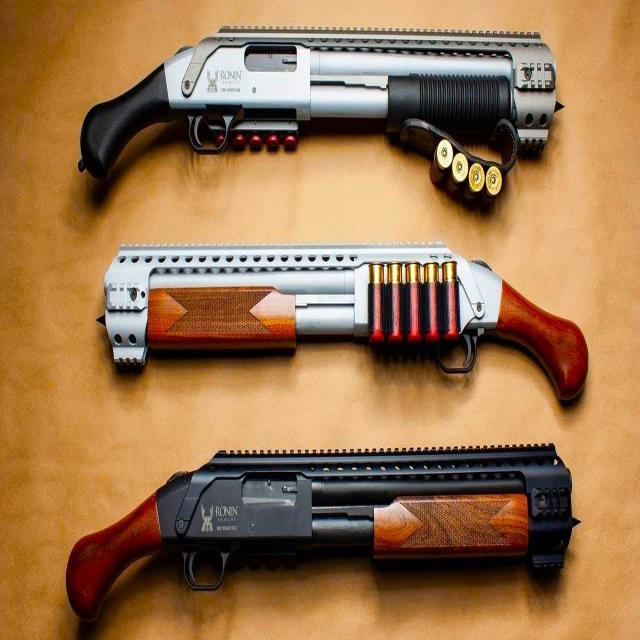shotgun: (55, 439, 585, 638), (78, 7, 560, 221), (96, 242, 592, 399)
